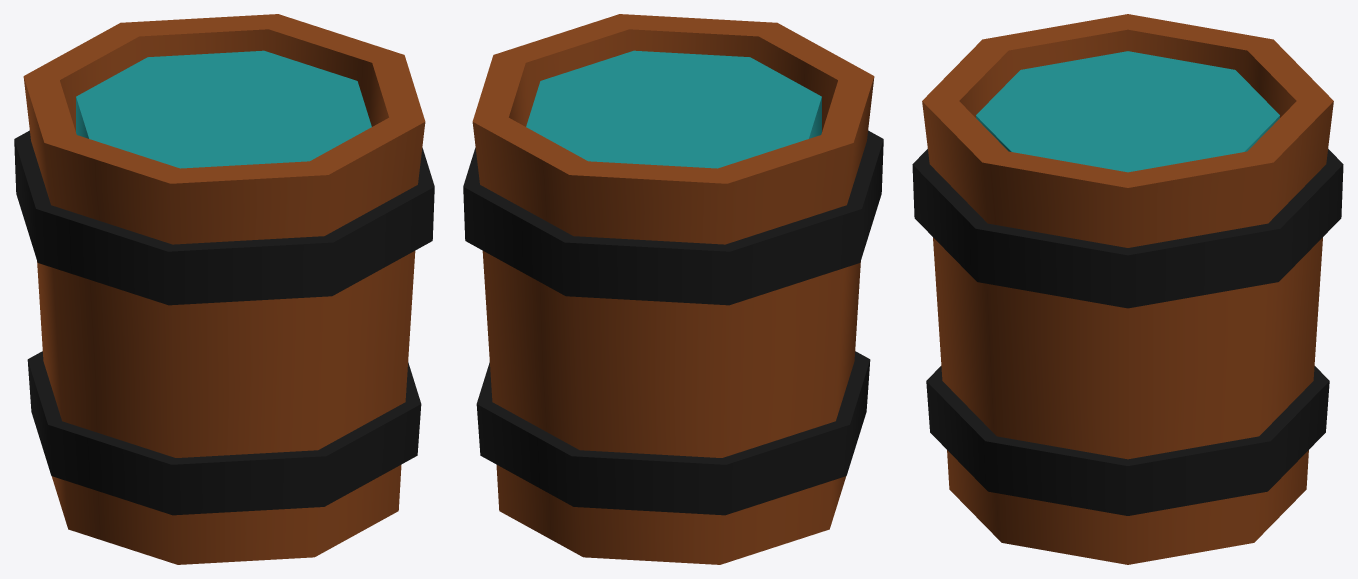
Rendered from bucket_full.FBX.
3 renders of one model, left to right at view 1: azimuth 30°, elevation 25°; view 2: azimuth 150°, elevation 25°; view 3: azimuth 270°, elevation 25°, orthographic.
Parts seen in each view (by area): view 1: Zylinder001, wasser; view 2: Zylinder001, wasser; view 3: Zylinder001, wasser.
Part boxes in pixels (x1,y1,x2,y2): Zylinder001: [14, 14, 434, 564]; wasser: [76, 50, 371, 168]; Zylinder001: [463, 14, 883, 564]; wasser: [526, 50, 821, 168]; Zylinder001: [912, 14, 1343, 564]; wasser: [976, 51, 1279, 172].
Size of the model in its own units: 0.2586 by 0.2586 by 0.2572.
